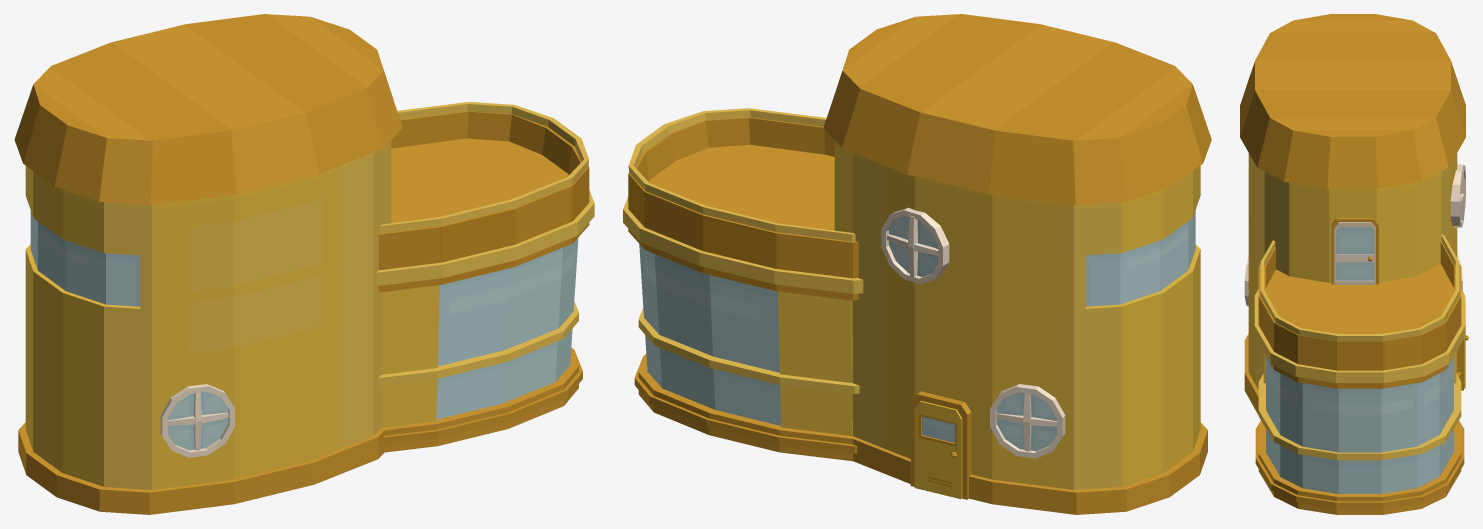
The model's file is W.H_yellow.fix.gltf.
3 renders of one model, left to right at view 1: azimuth 30°, elevation 25°; view 2: azimuth 150°, elevation 25°; view 3: azimuth 270°, elevation 25°, orthographic. The views are drawn at different scales.
Visible parts, largest first — view 1: cylinder; view 2: cylinder; view 3: cylinder.
Part boxes in pixels (<box>): cylinder: <box>14,14,594,514</box>; cylinder: <box>623,14,1211,514</box>; cylinder: <box>1240,14,1468,514</box>.
Bounding box in the file's own units: 22.07 × 14.47 × 10.01.
1 material, 1 textured.
